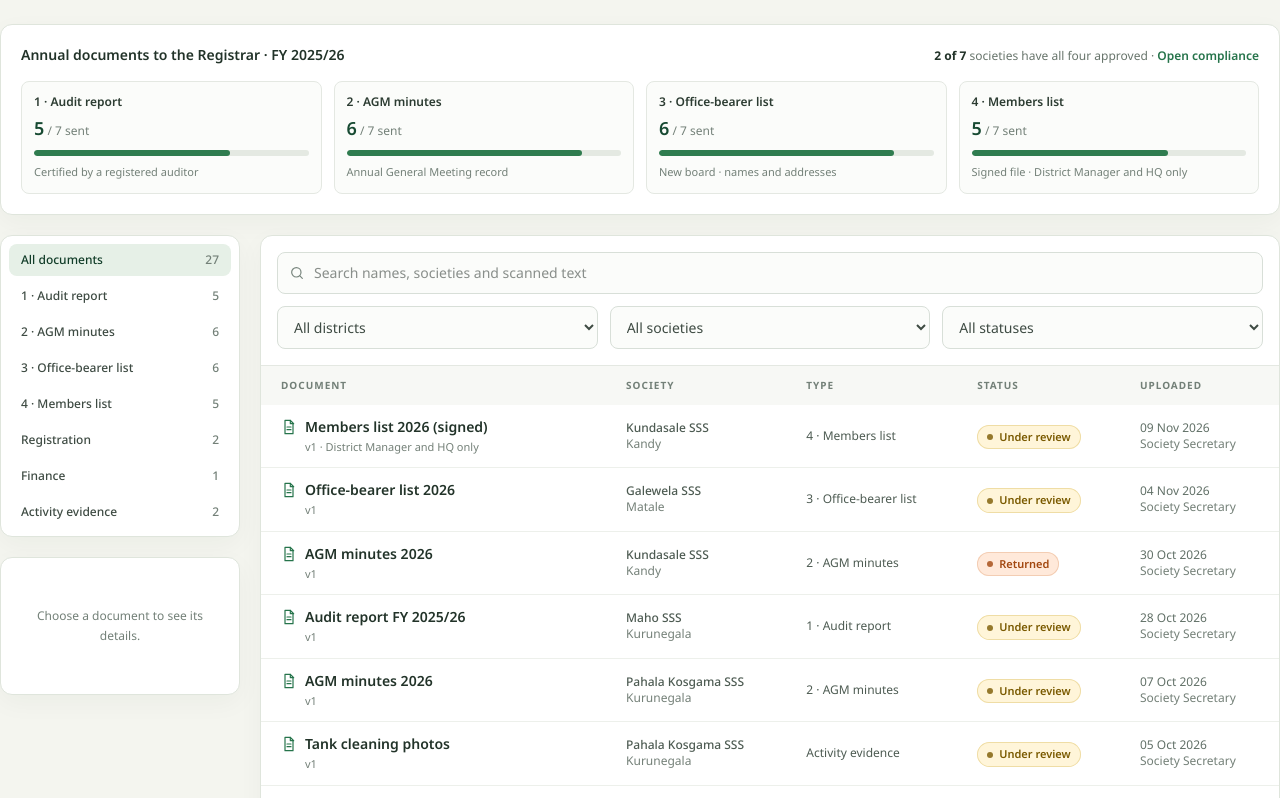
Test: DocumentLibrary › finds documents by name and by text inside the scanned file
Type "Wellawa" into the search field named "Search documents" at x=770, y=272, box x1=277 y1=252 x2=1263 y2=294
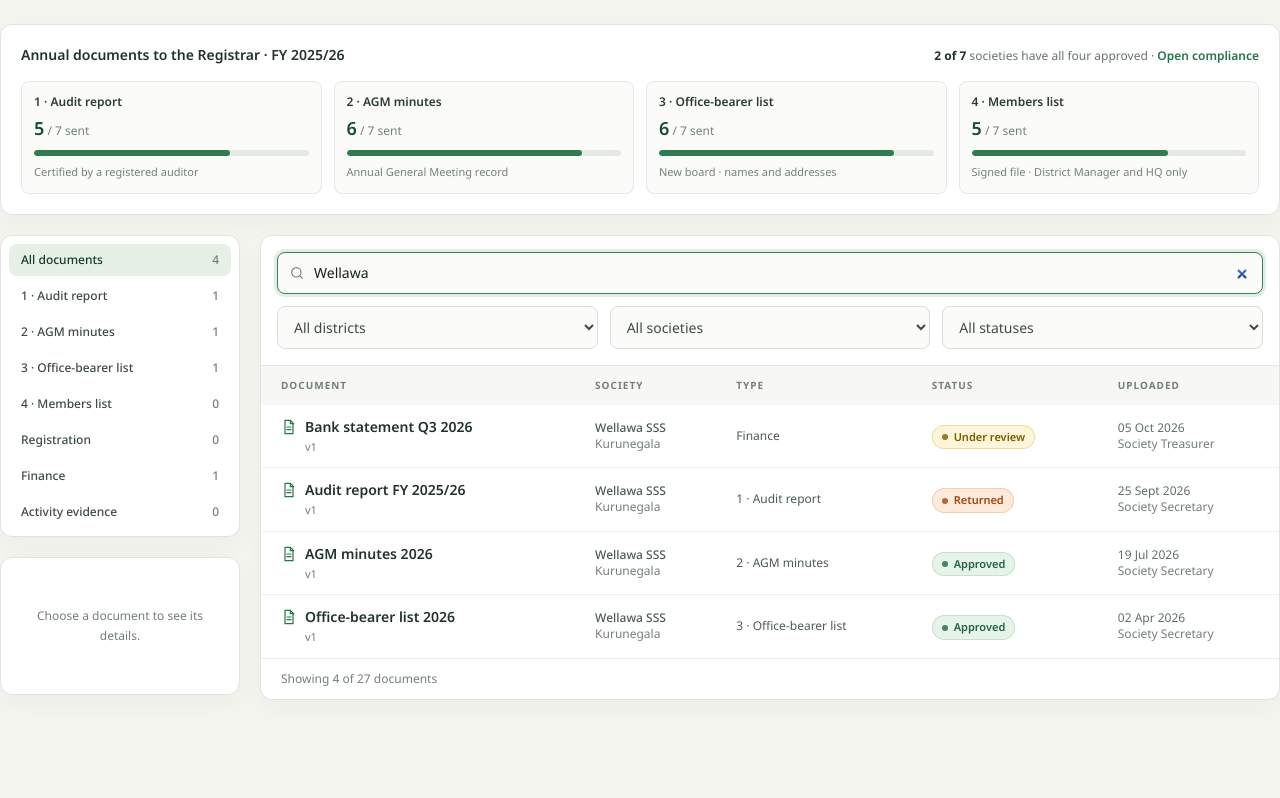
Now the number of buttons named "Preview " is 4, box x1=281 y1=416 x2=472 y2=455; x1=281 y1=480 x2=465 y2=518; x1=281 y1=544 x2=433 y2=582; x1=281 y1=607 x2=455 y2=646
Replace the text in the search field named "Search documents" with "volunteers" at x=770, y=272, box x1=277 y1=252 x2=1263 y2=294
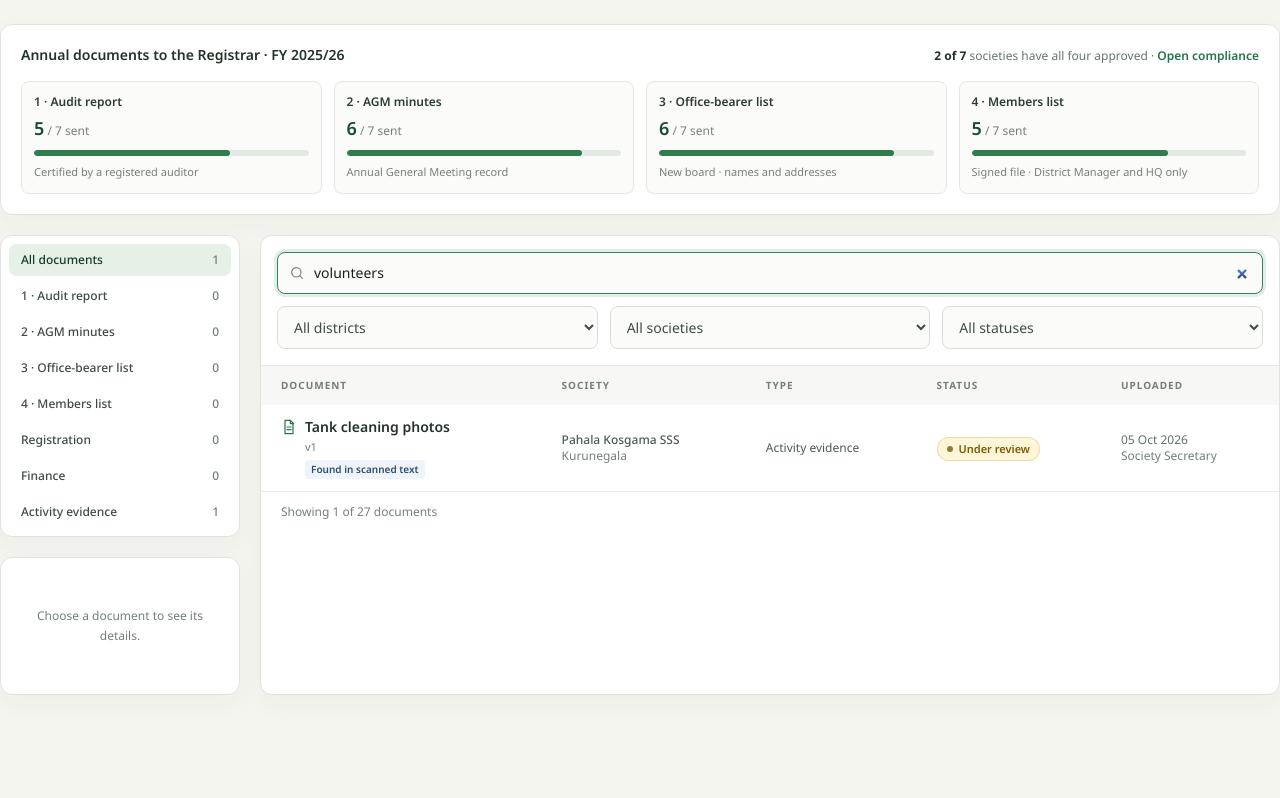
Now the number of buttons named "Preview " is 1, box x1=281 y1=416 x2=450 y2=479
Now the text "Found in scanned text" is shown, box x1=305 y1=460 x2=425 y2=479
